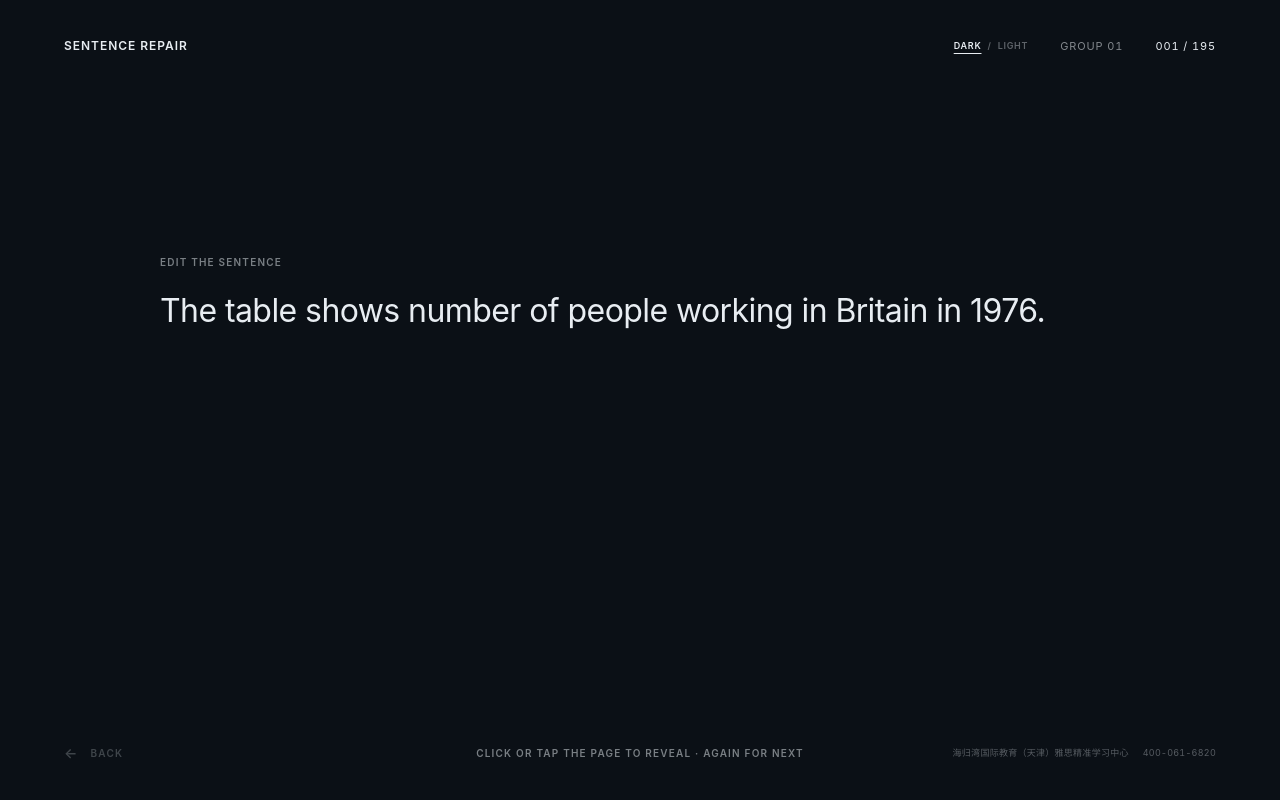
it: sentence practice flow › keeps an unfinished edit when navigating back and returning
This screenshot has width=1280, height=800.
Step 1. Press Enter in the field named "Sentence to correct", box [160, 292, 1045, 330]
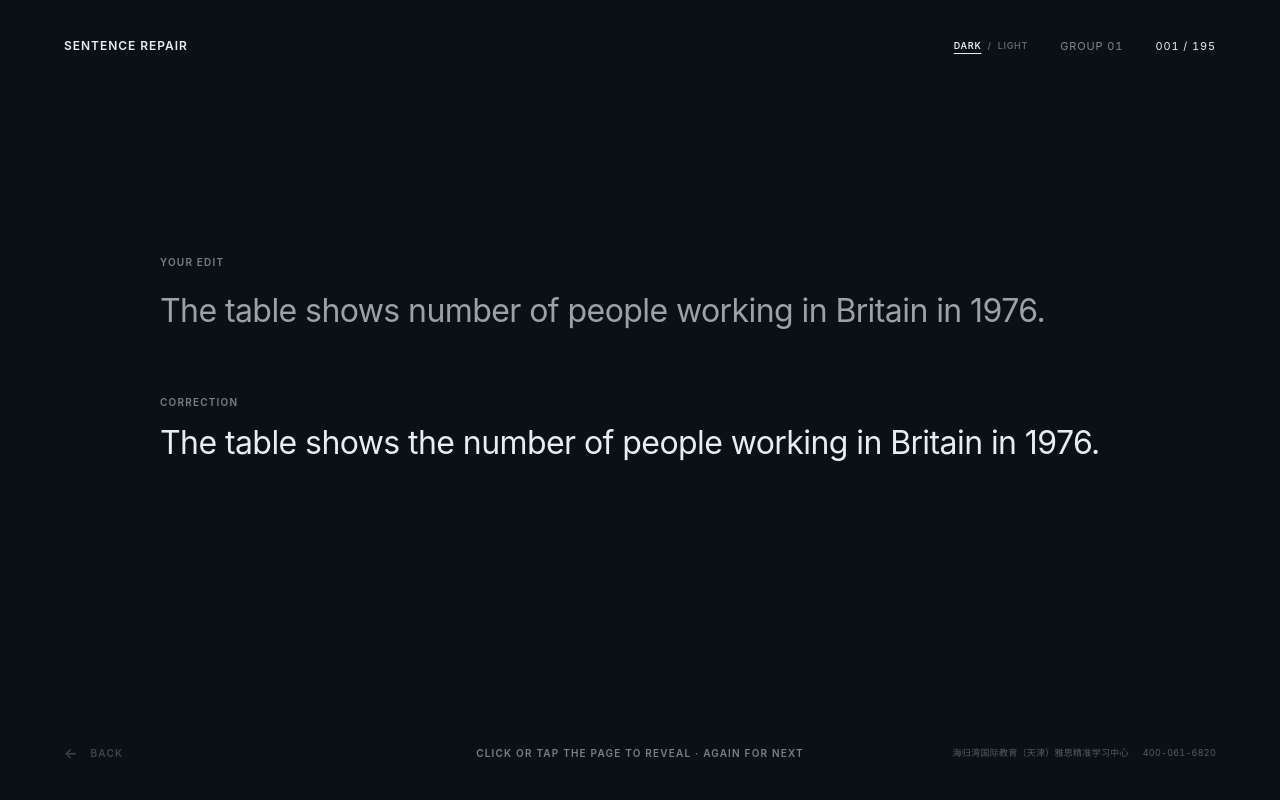
Step 2. Press Enter in the field named "Sentence to correct", box [160, 292, 1045, 330]
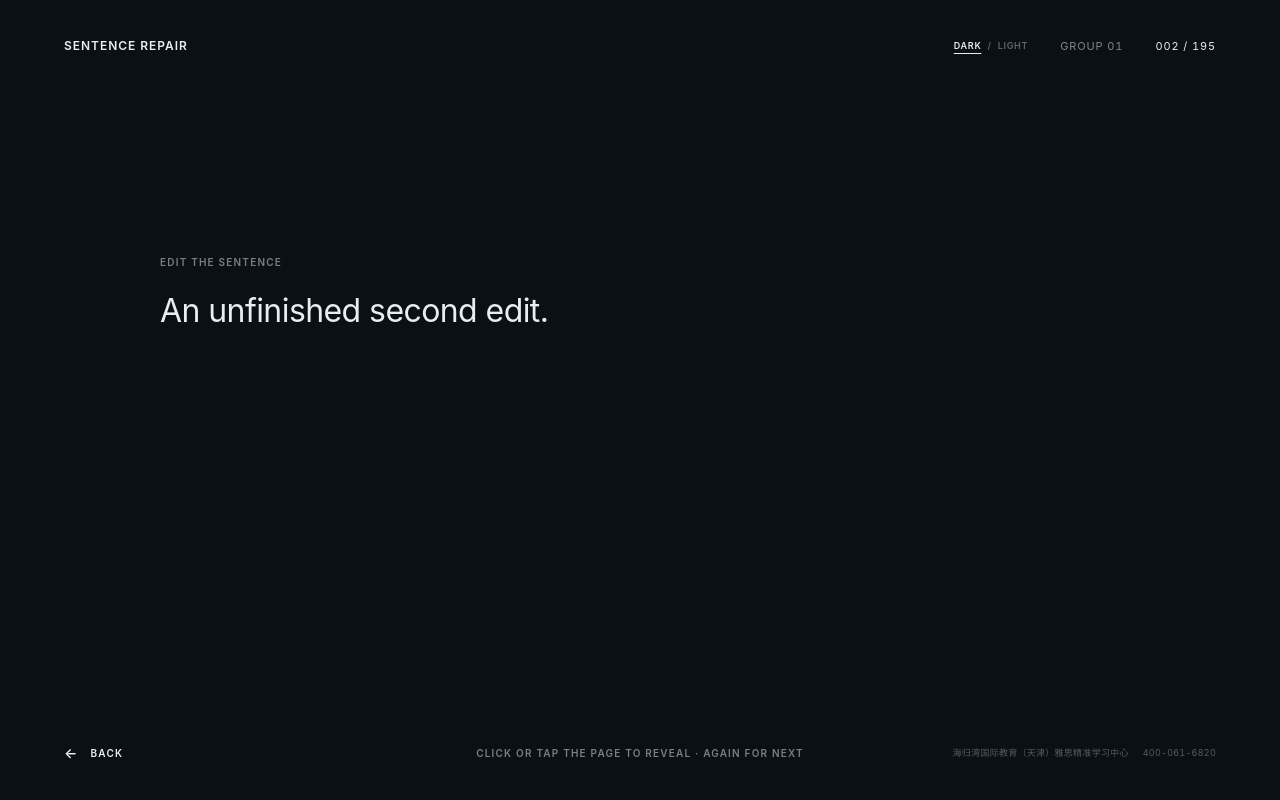
Step 3. Click the button with aria-label "Back to previous sentence" → (94, 753), box [64, 738, 123, 768]
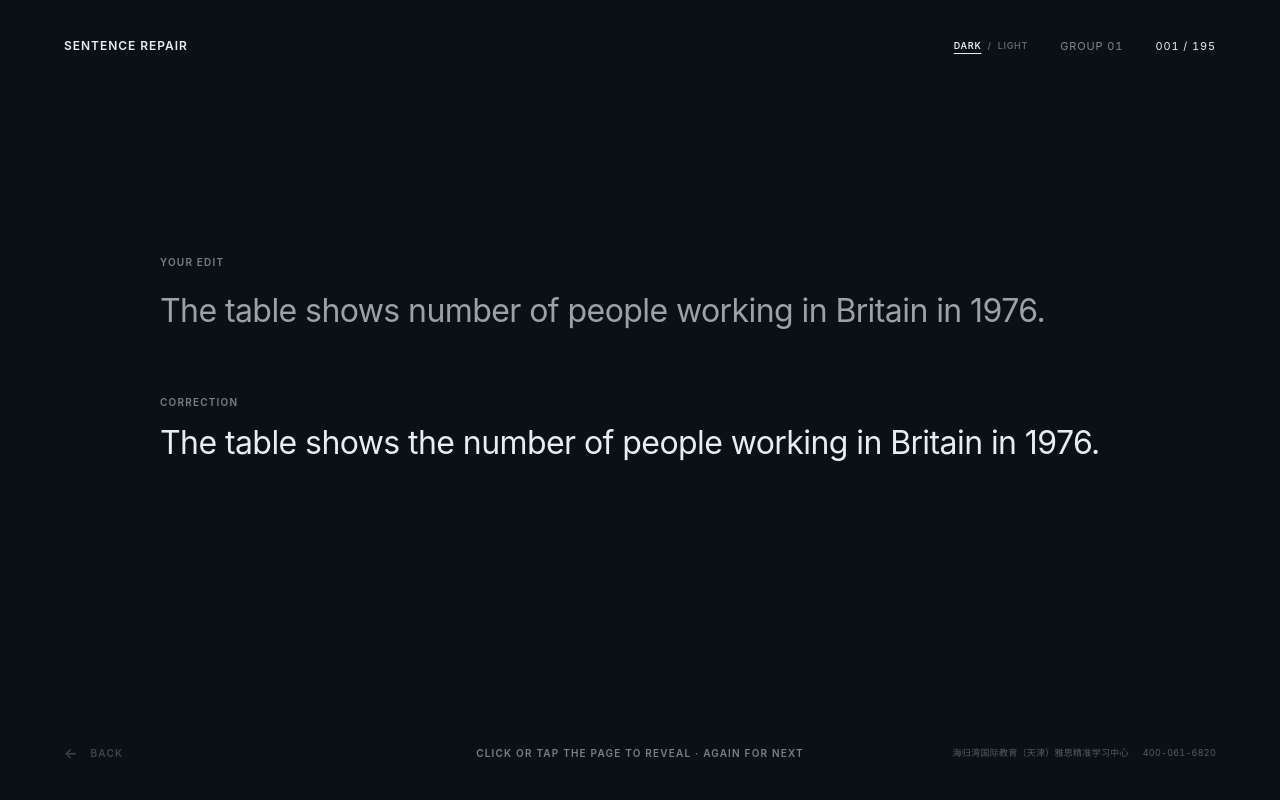
Step 4. Press Enter in the field named "Sentence to correct", box [160, 292, 1045, 330]
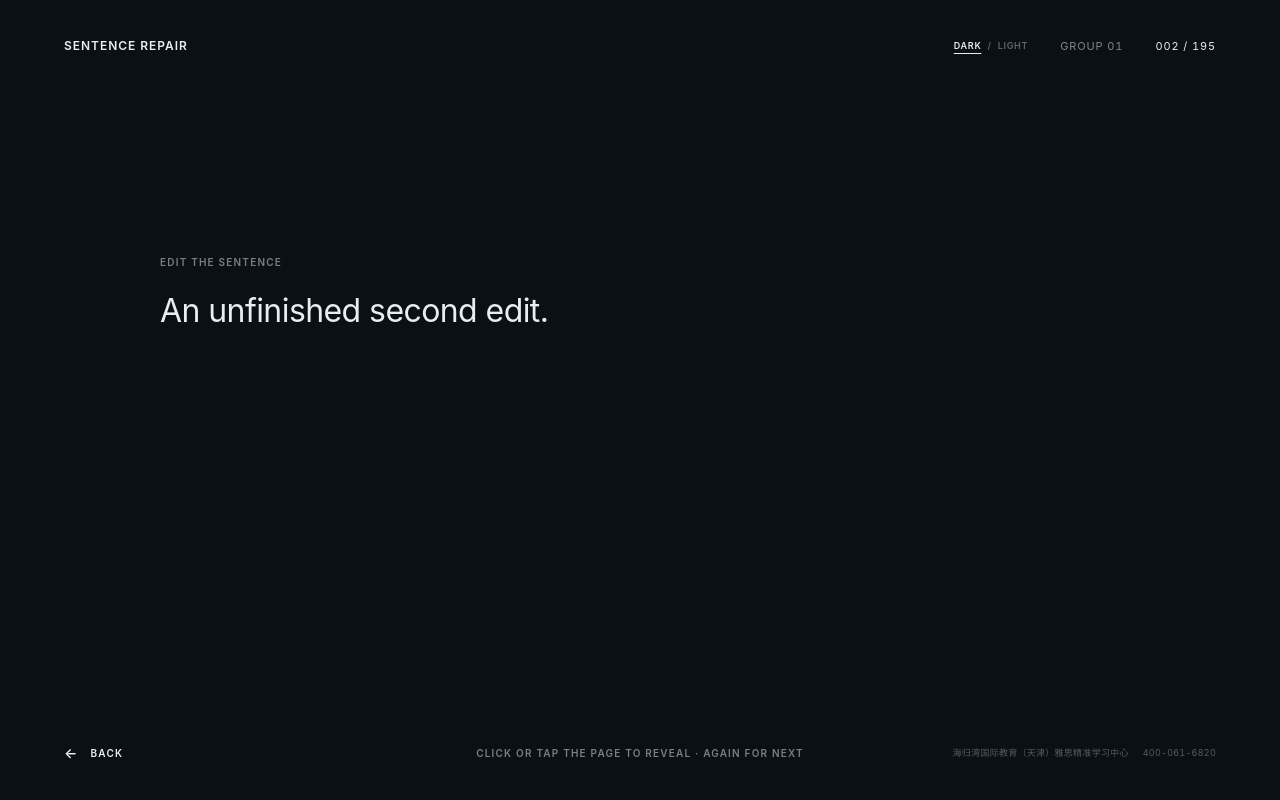
Check: the field named "Sentence to correct" reads "An unfinished second edit.", box [160, 292, 548, 330]
